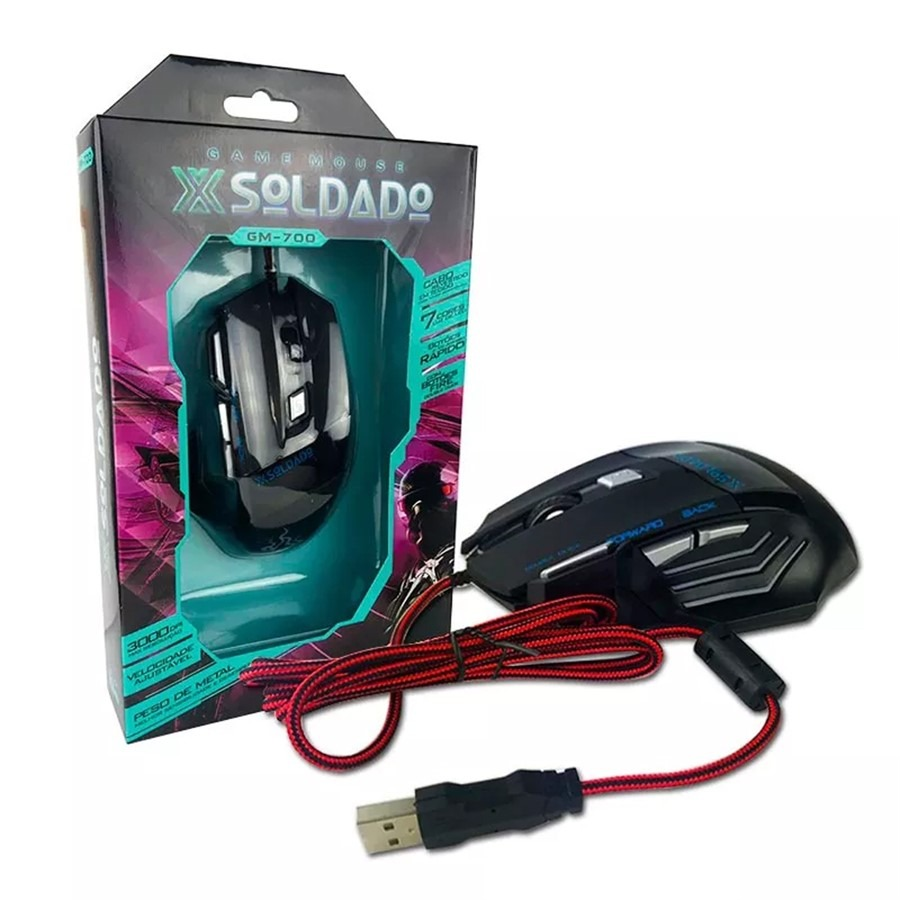mouse: (457, 437, 864, 655)
